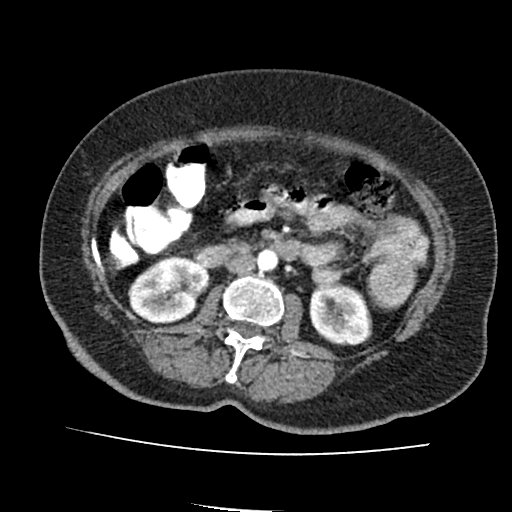aorta: (254, 247, 278, 271)
